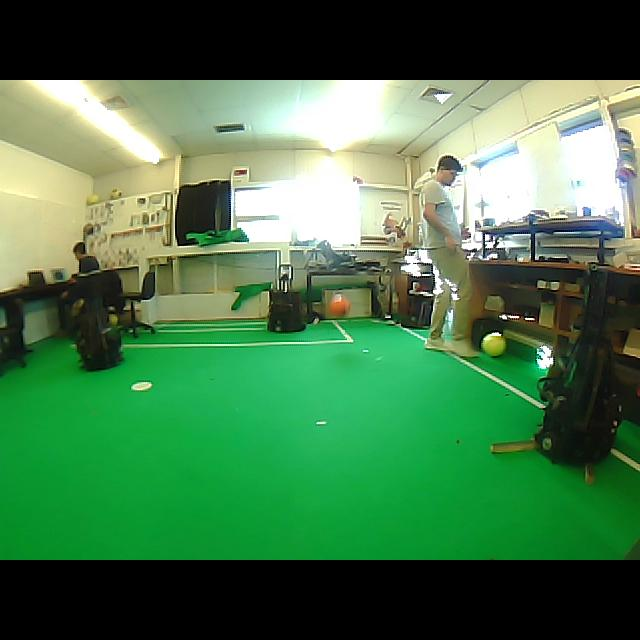ball: (481, 332, 506, 356), (329, 294, 349, 317), (86, 194, 100, 205), (109, 314, 119, 326), (110, 189, 121, 198)
robot: (535, 269, 621, 464), (76, 299, 124, 370), (268, 264, 305, 332)
